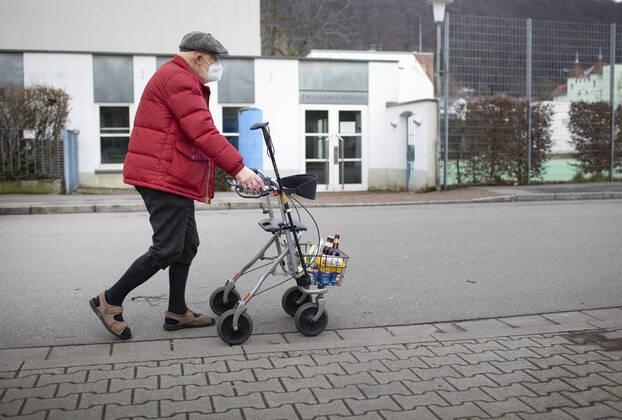walking_frame: (89, 31, 350, 344)
